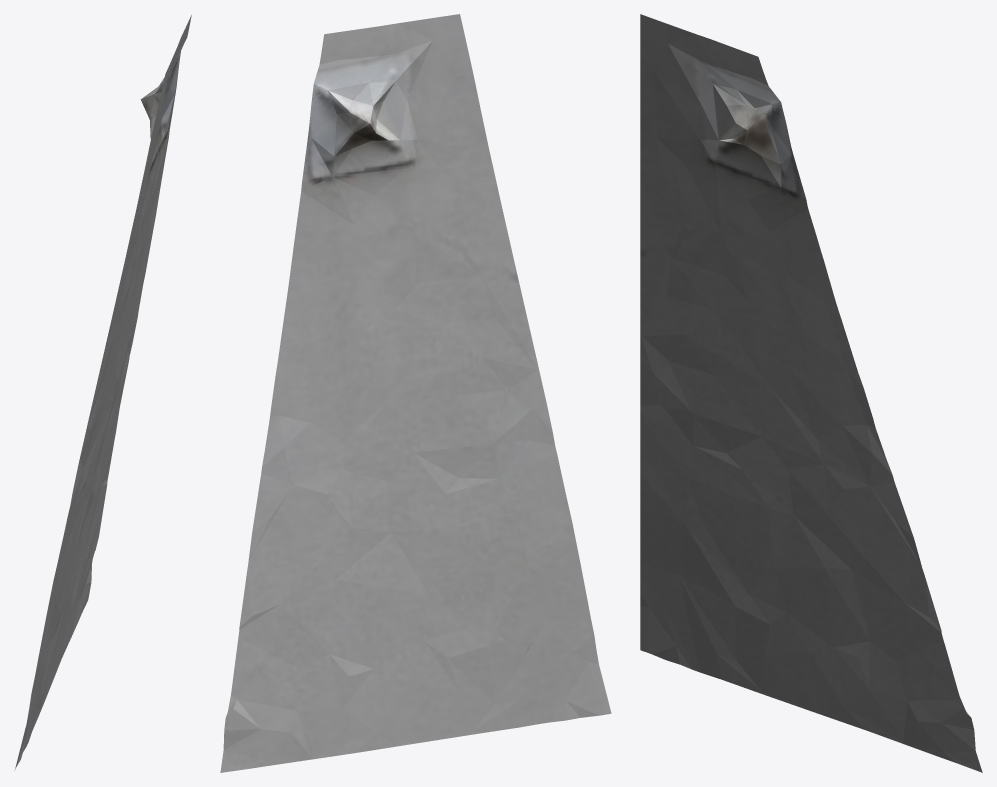
3 views of the same model, side by side, from view 1: azimuth 30°, elevation 25°; view 2: azimuth 150°, elevation 25°; view 3: azimuth 270°, elevation 25° (orthographic). The views are drawn at different scales.
Bounding box in the file's own units: 0.6155 × 1.67 × 0.7261.
1 material, 1 textured.
